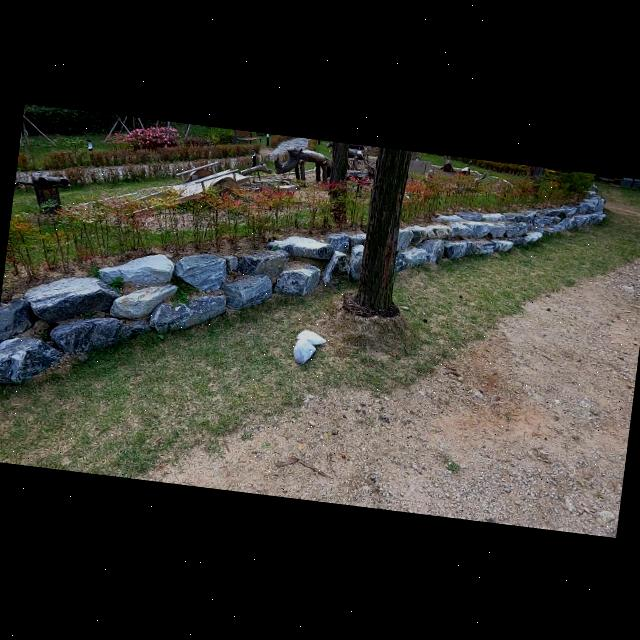trash: (292, 328, 328, 350), (290, 334, 316, 364)
